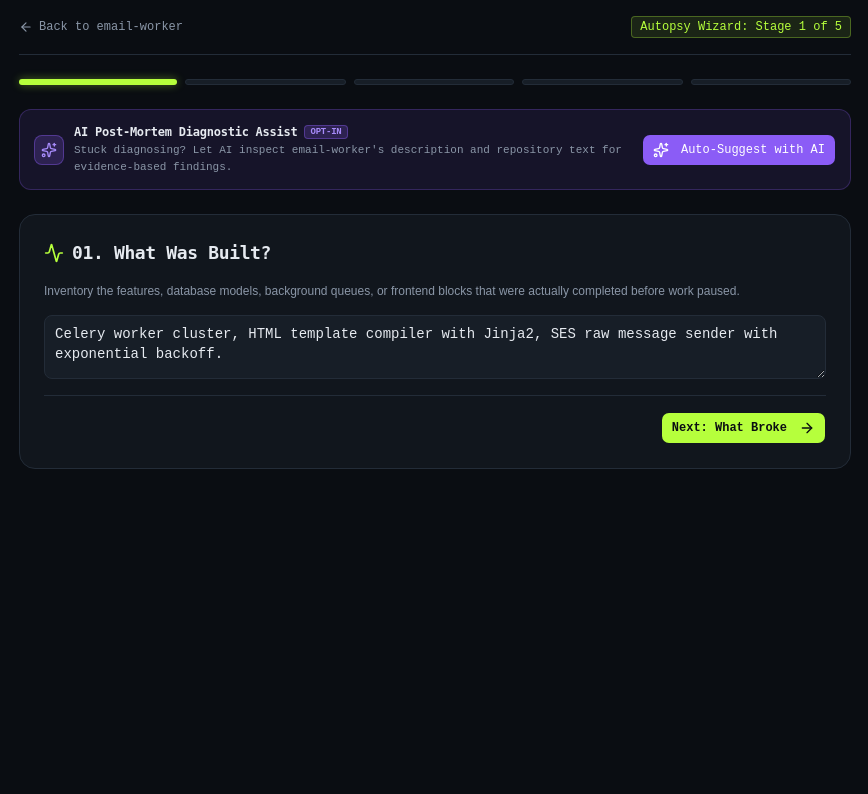
AutopsyWizardPage - Evidence-based AI Diagnostic Assist › displays not enough information note when whatBroke is missing
This screenshot has width=868, height=794.
What coordinates should you click on to do the following:
click the button "Auto-Suggest with AI"
I would click on:
 (739, 150)
Its box is left=642, top=134, right=836, bottom=166.
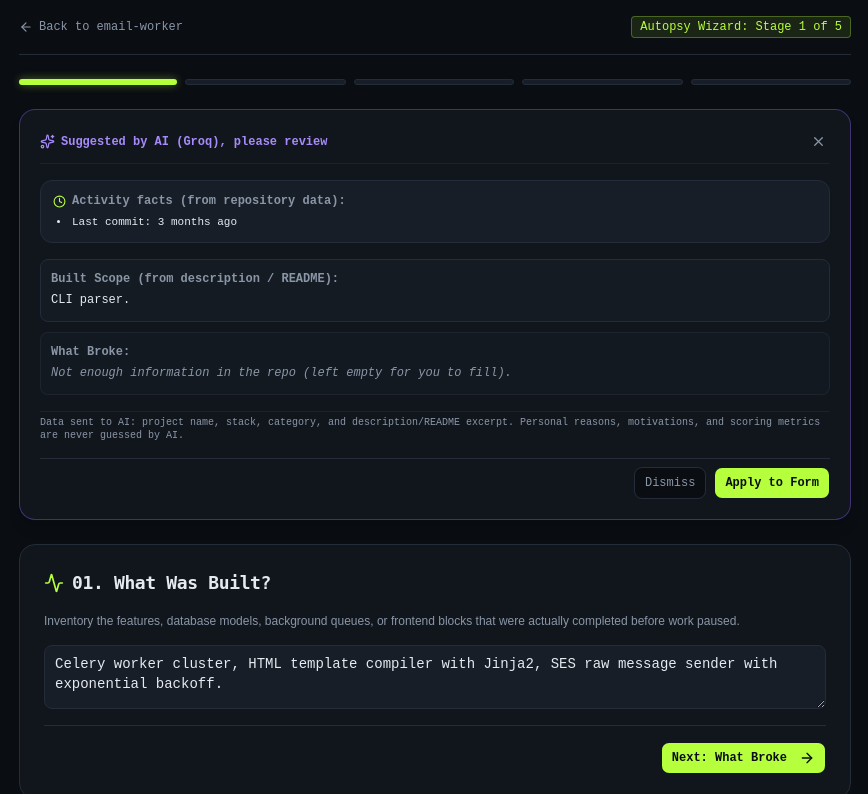
Result: the text "Not enough information in the repo (left empty for you to fill)" is shown at left=51, top=366, right=512, bottom=380
